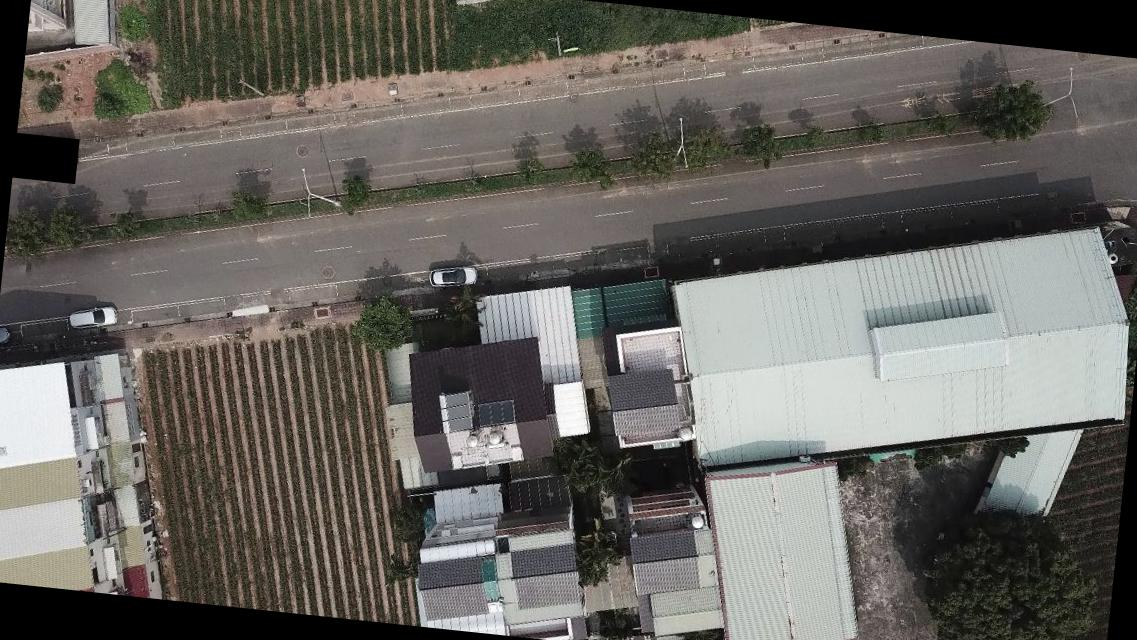vehicle: (428, 257, 480, 292), (430, 260, 482, 294), (64, 302, 118, 332), (0, 324, 13, 347)
